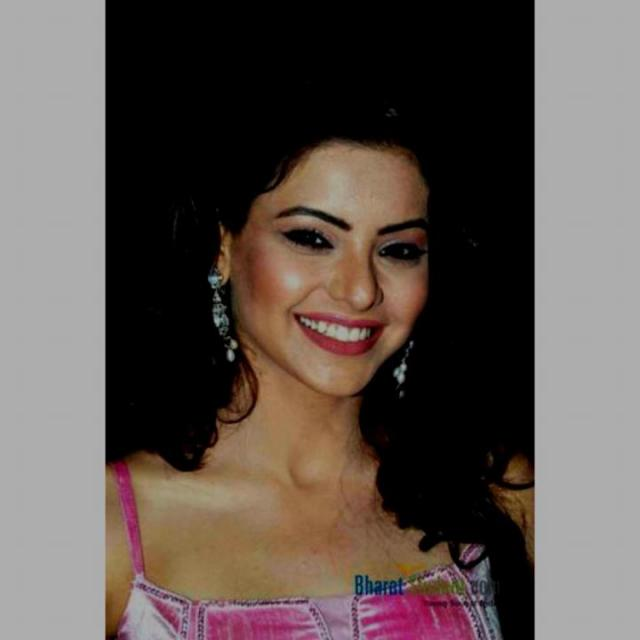live: (204, 132, 450, 410)
